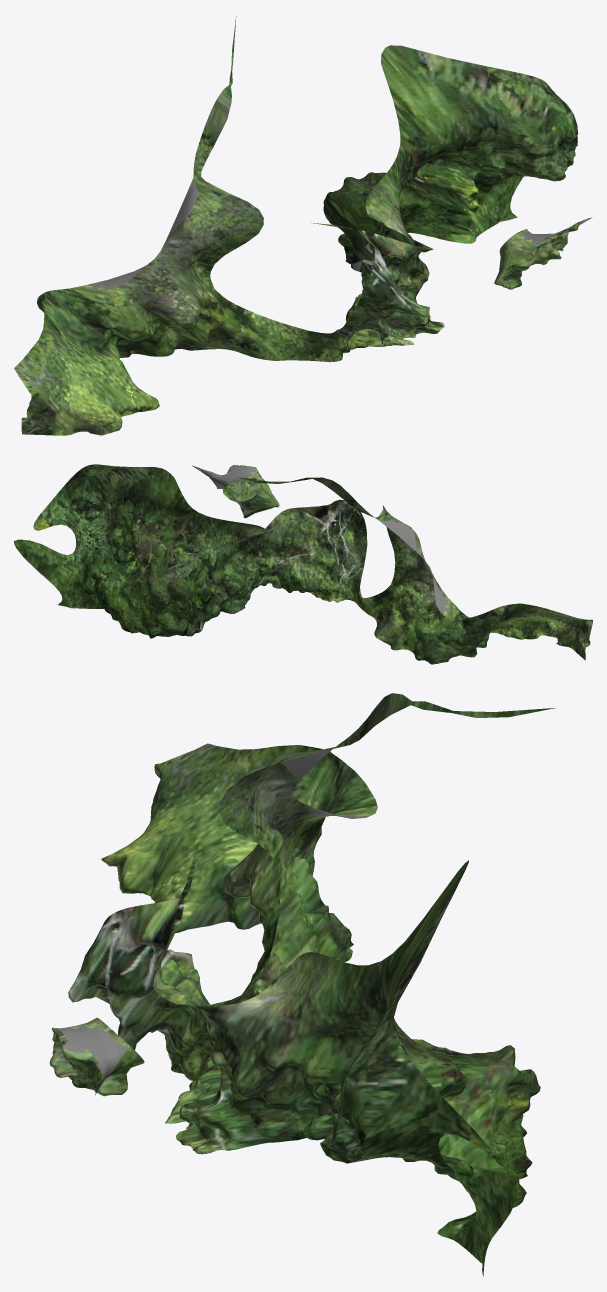
The model's file is Tile_+008_+031.fbx.
The picture shows the model from 3 angles, top to bottom: view 1: azimuth 30°, elevation 25°; view 2: azimuth 150°, elevation 25°; view 3: azimuth 270°, elevation 25°; orthographic projection. The views are drawn at different scales.
Parts seen in each view (by area): view 1: DefaultName; view 2: DefaultName; view 3: DefaultName.
Boxes of the visible parts, box(x1,y1,x2,y2) form: DefaultName: box(14, 16, 592, 435); DefaultName: box(14, 464, 592, 664); DefaultName: box(49, 693, 555, 1276).
Size of the model in its own units: 22.45 by 8.32 by 10.11.
